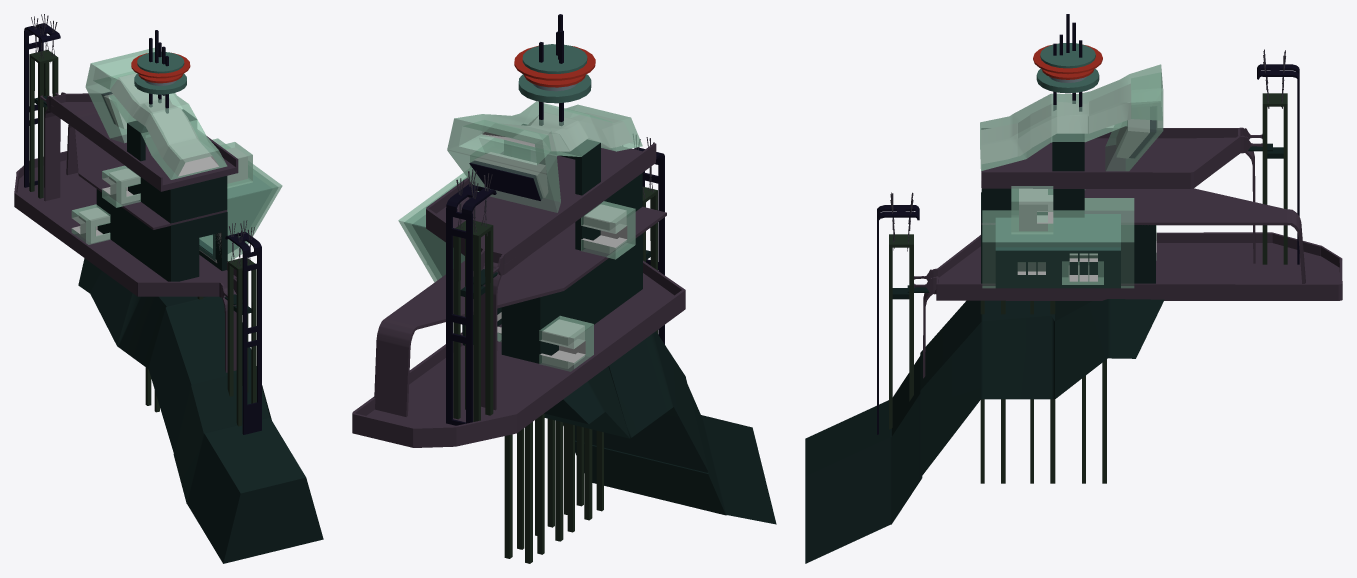
Rendered from contemporary house ece.fbx.
3 views of the same model, side by side, from view 1: azimuth 30°, elevation 25°; view 2: azimuth 150°, elevation 25°; view 3: azimuth 270°, elevation 25° (orthographic). The views are drawn at different scales.
Visible parts, largest first — view 1: pCube83, pCube182, pCube81, pCube141, pCube183, pCube112, pCube142, pCube103, polySurface1557, pCube157, polySurface1588, pCube180 (+6 smaller); view 2: pCube182, pCube83, pCube81, pCube141, polySurface1557, pCube179, polySurface1588, pCube183, pCube178, pCube177, pCube180, pCube142 (+10 smaller); view 3: pCube83, pCube182, pCube81, pCube157, pCube142, pCube183, pCube141, pCube172, polySurface1557, pCube112, pCube179, polySurface1588 (+7 smaller).
Part boxes in pixels (left/top/right/bottom): pCube83: left=78, top=258, right=323, bottom=563; pCube182: left=14, top=92, right=238, bottom=372; pCube81: left=85, top=47, right=227, bottom=179; pCube141: left=96, top=189, right=227, bottom=281; pCube183: left=127, top=109, right=227, bottom=226; pCube112: left=227, top=258, right=256, bottom=426; pCube142: left=199, top=138, right=282, bottom=262; pCube103: left=225, top=232, right=261, bottom=434; polySurface1557: left=29, top=49, right=58, bottom=198; pCube157: left=199, top=169, right=277, bottom=261; polySurface1588: left=24, top=23, right=60, bottom=187; pCube180: left=102, top=165, right=140, bottom=207; pCube182: left=352, top=143, right=685, bottom=447; pCube83: left=544, top=331, right=776, bottom=524; pCube81: left=447, top=101, right=642, bottom=212; pCube141: left=462, top=233, right=642, bottom=363; polySurface1557: left=453, top=220, right=493, bottom=421; pCube179: left=504, top=413, right=544, bottom=563; polySurface1588: left=446, top=184, right=496, bottom=425; pCube183: left=504, top=124, right=642, bottom=250; pCube178: left=535, top=418, right=574, bottom=541; pCube177: left=564, top=422, right=603, bottom=520; pCube180: left=581, top=201, right=635, bottom=259; pCube142: left=398, top=168, right=501, bottom=341; pCube83: left=805, top=299, right=1164, bottom=563; pCube182: left=914, top=127, right=1342, bottom=378; pCube81: left=980, top=64, right=1163, bottom=171; pCube157: left=995, top=214, right=1120, bottom=288; pCube142: left=982, top=198, right=1134, bottom=288; pCube183: left=981, top=134, right=1084, bottom=222; pCube141: left=981, top=192, right=1155, bottom=283; pCube172: left=1011, top=186, right=1053, bottom=233; polySurface1557: left=1262, top=93, right=1287, bottom=264; pCube112: left=889, top=234, right=913, bottom=429; pCube179: left=1082, top=359, right=1106, bottom=483; polySurface1588: left=1257, top=64, right=1299, bottom=264.
Bounding box in the file's own units: 51.7 × 148 × 140.
